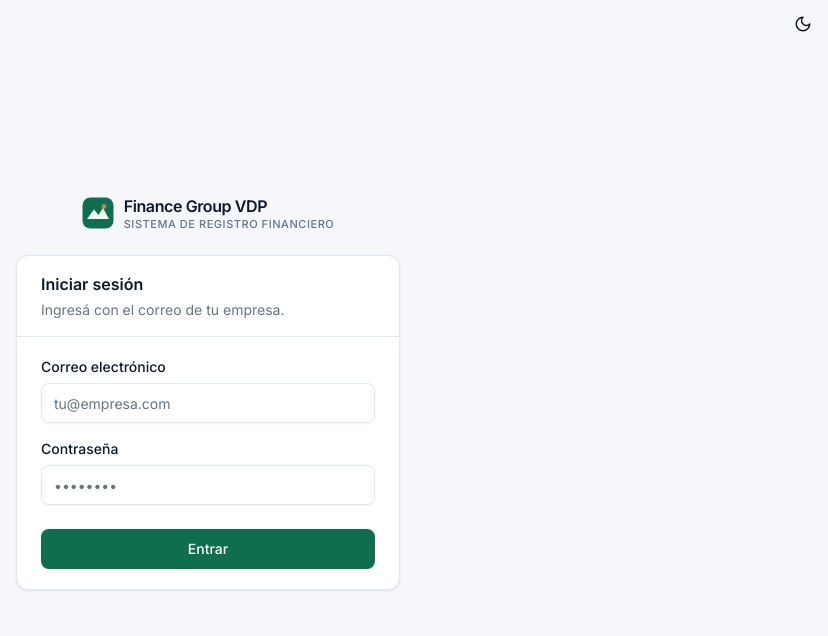
Test case: LoginPage › muestra un mensaje de error cuando el login falla
The image size is (828, 636).
Type "ana@vdp.com" into the field labelled "Correo electrónico" at (208, 403), box [41, 383, 375, 423]
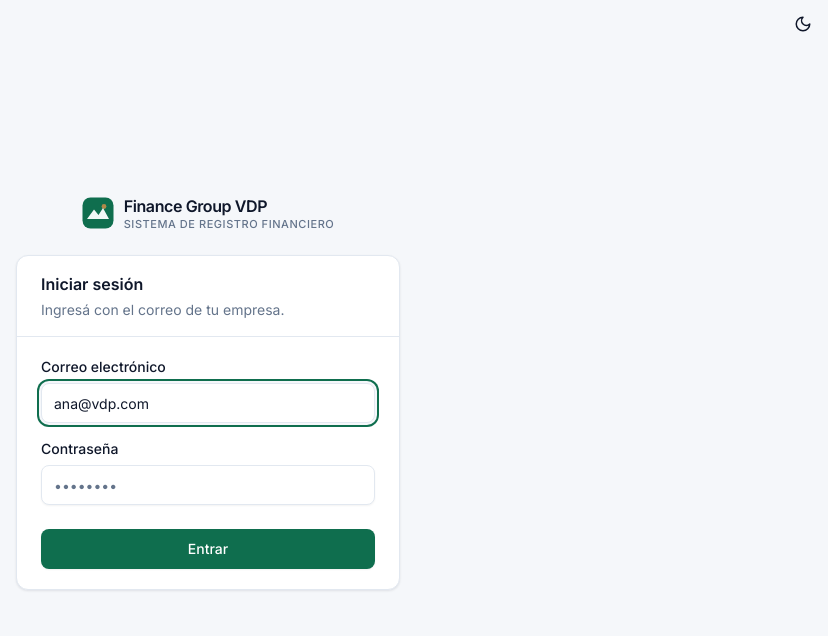
Type "malas" into the password field labelled "Contraseña" at (208, 485), box [41, 465, 375, 505]
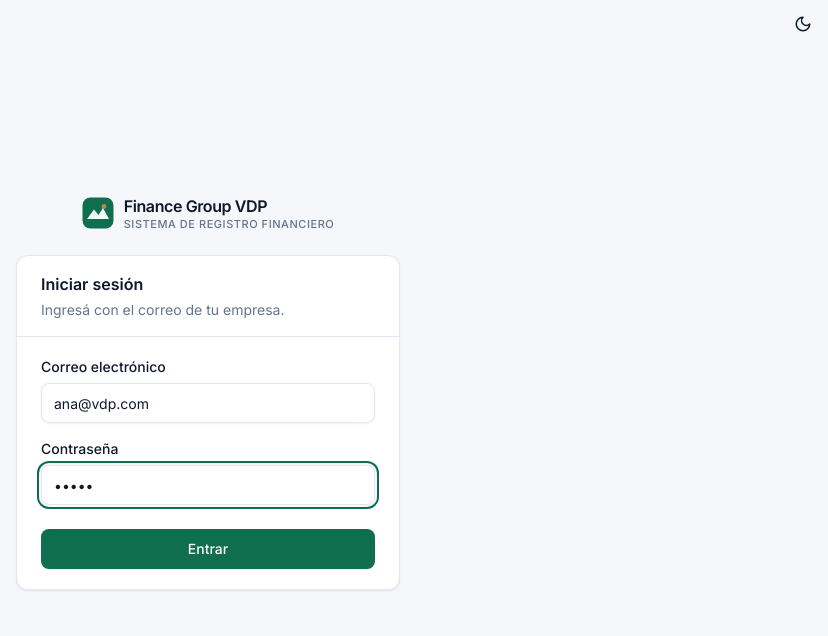
Click the button "Entrar" at (208, 549), box [41, 529, 375, 569]
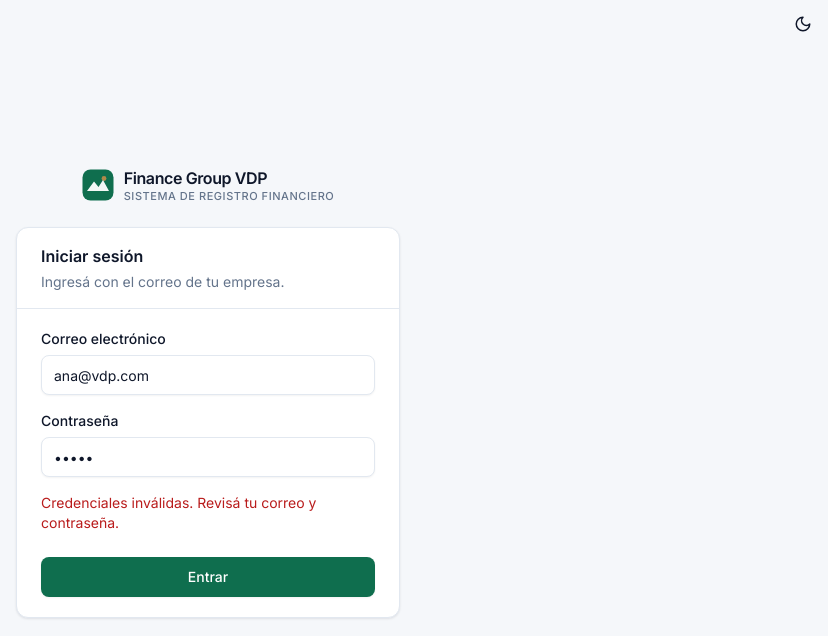
Now the message shows "Credenciales inválidas", box [41, 494, 316, 531]
